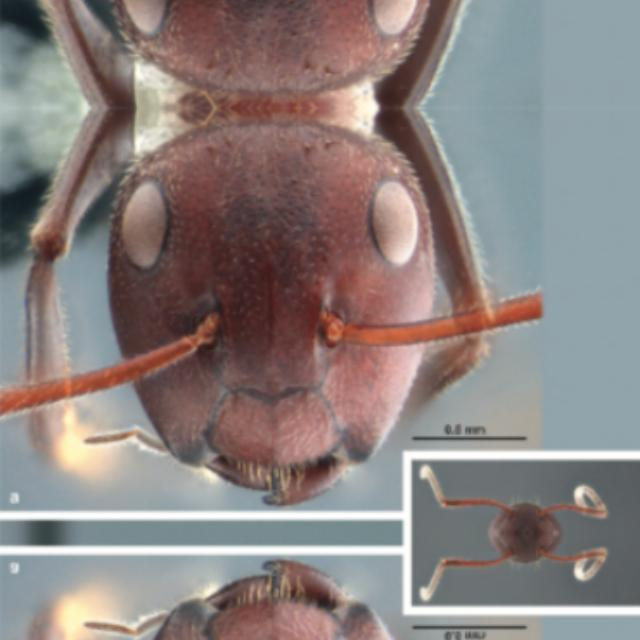Colobopsis: (0, 120, 560, 522), (0, 542, 560, 640), (0, 0, 560, 94)
